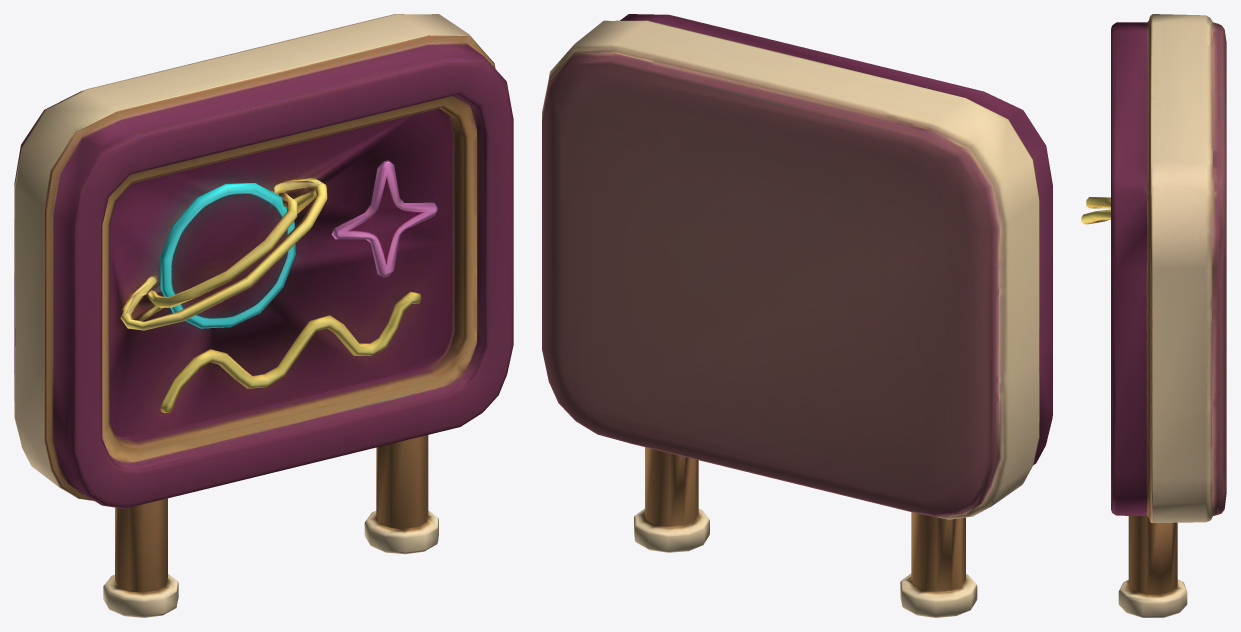
Rendered from neon_sign_frame.glb.
3 renders of one model, left to right at view 1: azimuth 30°, elevation 25°; view 2: azimuth 150°, elevation 25°; view 3: azimuth 270°, elevation 25°, orthographic. The views are drawn at different scales.
Parts seen in each view (by area): view 1: neon_sign_frame; view 2: neon_sign_frame; view 3: neon_sign_frame.
Boxes of the visible parts, bbox=[...] form: neon_sign_frame: bbox=[14, 14, 513, 617]; neon_sign_frame: bbox=[542, 14, 1052, 617]; neon_sign_frame: bbox=[1081, 14, 1226, 617].
Size of the model in its own units: 13.4 by 14 by 4.05.
Materials: 1 (1 with a texture image).
